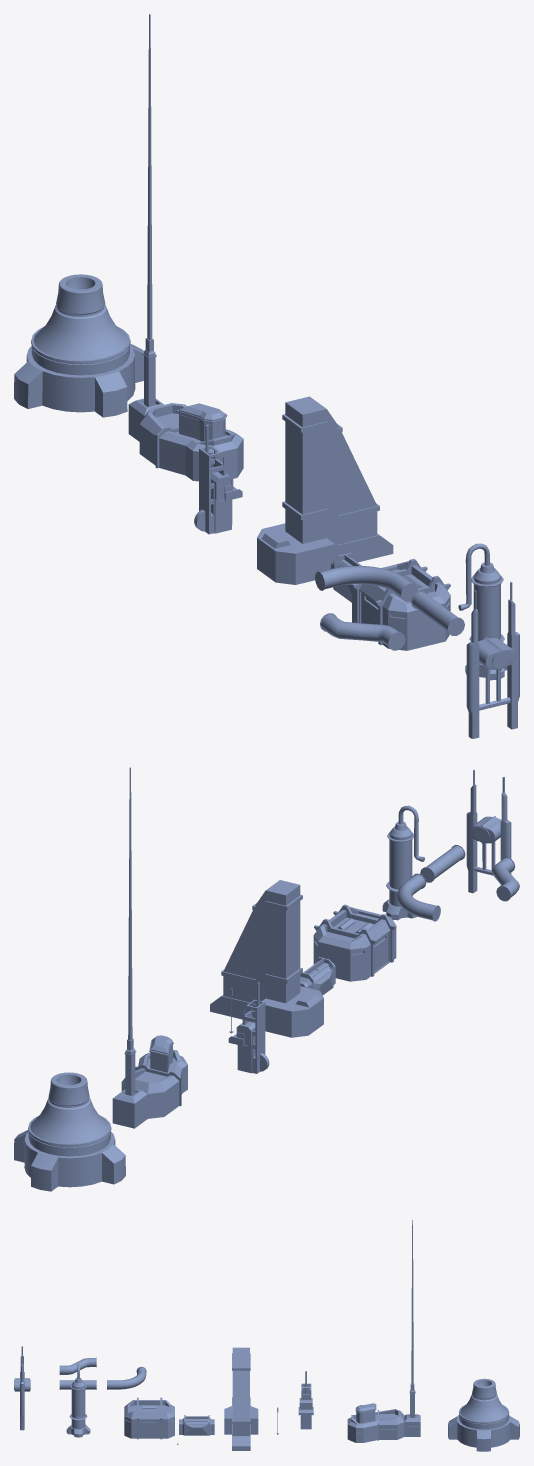
File: mineprops.fbx
The picture shows the model from 3 angles, top to bottom: view 1: azimuth 30°, elevation 25°; view 2: azimuth 150°, elevation 25°; view 3: azimuth 270°, elevation 25°; orthographic projection. The views are drawn at different scales.
Parts seen in each view (by area): view 1: Building_Tall, Power Station, Building_Antenna, Building_Simple, Pipe Support, Silo, Drill Frame, Pipe Curved, Pipe Swerve, Pipe Straight; view 2: Building_Tall, Power Station, Building_Antenna, Building_Simple, Pipe Support, Silo, Drill Frame, Pipe Curved, Building_Hallway, Pipe Swerve, Pipe Straight; view 3: Power Station, Building_Antenna, Building_Tall, Building_Simple, Silo, Building_Hallway, Drill Frame, Pipe Support, Pipe Curved, Pipe Swerve.
Boxes of the visible parts, bbox=[...] form: Building_Tall: bbox=[257, 396, 393, 584]; Power Station: bbox=[14, 274, 143, 417]; Building_Antenna: bbox=[128, 14, 243, 481]; Building_Simple: bbox=[352, 559, 450, 650]; Pipe Support: bbox=[466, 582, 519, 738]; Silo: bbox=[458, 543, 507, 680]; Drill Frame: bbox=[199, 445, 242, 534]; Pipe Curved: bbox=[315, 566, 418, 601]; Pipe Swerve: bbox=[320, 613, 405, 650]; Pipe Straight: bbox=[411, 591, 464, 635]; Building_Tall: bbox=[210, 880, 323, 1037]; Power Station: bbox=[14, 1072, 125, 1191]; Building_Antenna: bbox=[112, 767, 187, 1128]; Building_Simple: bbox=[313, 904, 396, 981]; Pipe Support: bbox=[466, 770, 511, 893]; Silo: bbox=[382, 805, 424, 920]; Drill Frame: bbox=[228, 999, 265, 1073]; Pipe Curved: bbox=[397, 873, 440, 921]; Building_Hallway: bbox=[300, 957, 335, 995]; Pipe Swerve: bbox=[492, 857, 519, 901]; Pipe Straight: bbox=[420, 845, 465, 882]; Power Station: bbox=[448, 1378, 519, 1451]; Building_Antenna: bbox=[347, 1220, 420, 1442]; Building_Tall: bbox=[224, 1347, 258, 1450]; Building_Simple: bbox=[124, 1397, 174, 1439]; Silo: bbox=[66, 1364, 90, 1437]; Building_Hallway: bbox=[179, 1415, 214, 1435]; Drill Frame: bbox=[298, 1383, 313, 1429]; Pipe Support: bbox=[14, 1346, 30, 1430]; Pipe Curved: bbox=[107, 1366, 146, 1389]; Pipe Swerve: bbox=[59, 1357, 96, 1374].
Bounding box in the file's own units: 4459 × 8787 × 18656.
